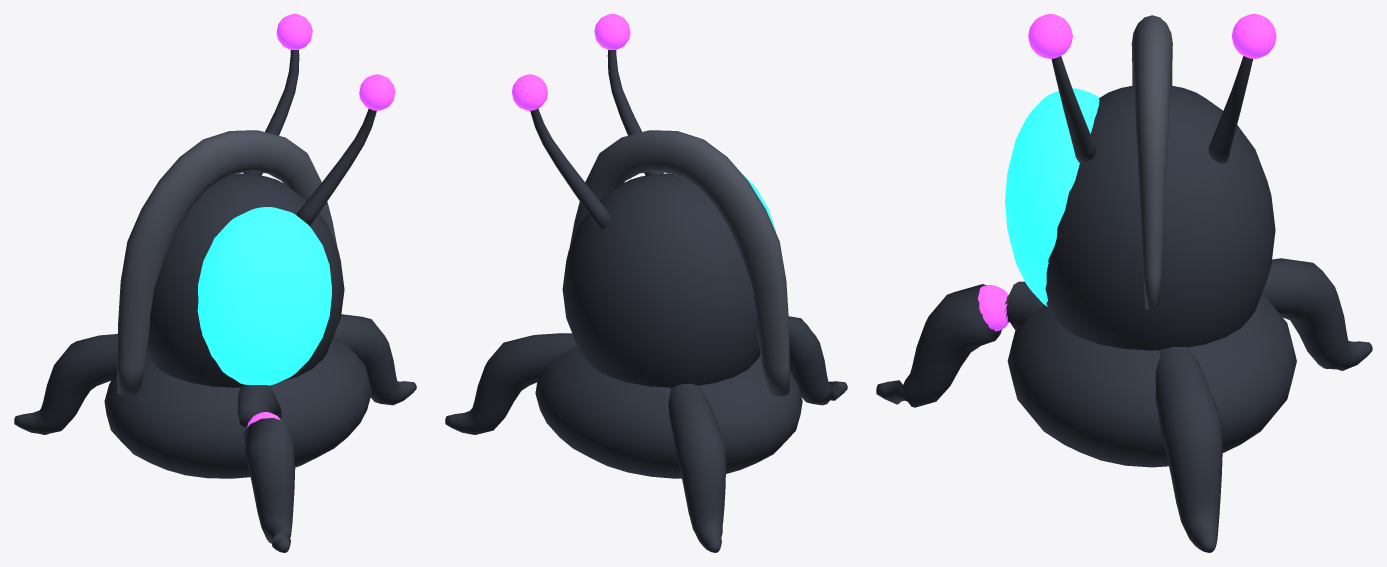
File: alien_signal_relay.glb
3 renders of one model, left to right at view 1: azimuth 30°, elevation 25°; view 2: azimuth 150°, elevation 25°; view 3: azimuth 270°, elevation 25°, orthographic. The views are drawn at different scales.
Parts seen in each view (by area): view 1: BaseShell, CyanSignalCore, CoreShield, CoreHousing, RemovableClamp_2, RemovableClamp_1, RemovableClamp_0, ReceiverAntenna, ReceiverAntenna.001, VioletAntennaTip, VioletAntennaTip.001; view 2: CoreHousing, BaseShell, CoreShield, RemovableClamp_1, RemovableClamp_0, RemovableClamp_2, ReceiverAntenna.001, ReceiverAntenna, VioletAntennaTip, VioletAntennaTip.001; view 3: CoreHousing, BaseShell, CyanSignalCore, RemovableClamp_0, CoreShield, RemovableClamp_2, RemovableClamp_1, ReceiverAntenna.001, ReceiverAntenna, VioletAntennaTip, VioletAntennaTip.001, VioletClampJoint.002.
Boxes of the visible parts, x1=… form: BaseShell: x1=104, y1=336, x2=371, y2=478; CyanSignalCore: x1=197, y1=207, x2=331, y2=385; CoreShield: x1=117, y1=130, x2=337, y2=395; CoreHousing: x1=146, y1=173, x2=344, y2=387; RemovableClamp_2: x1=237, y1=384, x2=295, y2=552; RemovableClamp_1: x1=14, y1=334, x2=117, y2=434; RemovableClamp_0: x1=333, y1=314, x2=416, y2=405; ReceiverAntenna: x1=296, y1=108, x2=376, y2=226; ReceiverAntenna.001: x1=243, y1=50, x2=299, y2=175; VioletAntennaTip: x1=359, y1=74, x2=395, y2=110; VioletAntennaTip.001: x1=276, y1=14, x2=312, y2=49; CoreHousing: x1=562, y1=173, x2=760, y2=387; BaseShell: x1=535, y1=345, x2=802, y2=478; CoreShield: x1=569, y1=130, x2=789, y2=395; RemovableClamp_1: x1=668, y1=383, x2=725, y2=552; RemovableClamp_0: x1=445, y1=333, x2=576, y2=434; RemovableClamp_2: x1=788, y1=316, x2=847, y2=405; ReceiverAntenna.001: x1=530, y1=108, x2=611, y2=229; ReceiverAntenna: x1=607, y1=50, x2=663, y2=175; VioletAntennaTip: x1=594, y1=14, x2=630, y2=49; VioletAntennaTip.001: x1=512, y1=74, x2=547, y2=110; CoreHousing: x1=1045, y1=85, x2=1275, y2=350; BaseShell: x1=1007, y1=294, x2=1296, y2=467; CyanSignalCore: x1=1005, y1=88, x2=1099, y2=306; RemovableClamp_0: x1=1155, y1=346, x2=1222, y2=552; CoreShield: x1=1131, y1=15, x2=1172, y2=309; RemovableClamp_2: x1=876, y1=281, x2=1044, y2=407; RemovableClamp_1: x1=1262, y1=258, x2=1372, y2=370; ReceiverAntenna.001: x1=1208, y1=56, x2=1252, y2=163; ReceiverAntenna: x1=1051, y1=56, x2=1096, y2=163; VioletAntennaTip: x1=1028, y1=14, x2=1072, y2=58; VioletAntennaTip.001: x1=1231, y1=14, x2=1276, y2=58; VioletClampJoint.002: x1=978, y1=285, x2=1009, y2=331.
Bounding box in the file's own units: 0.8962 × 0.9938 × 0.9265.
